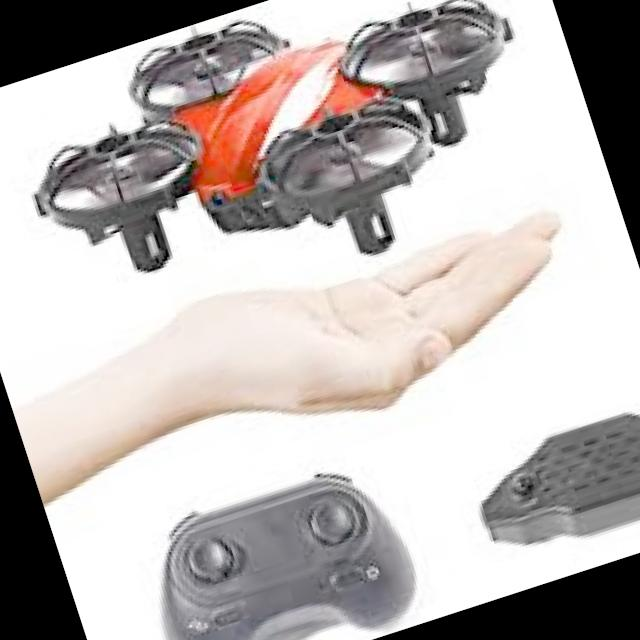drone: (0, 0, 589, 362)
